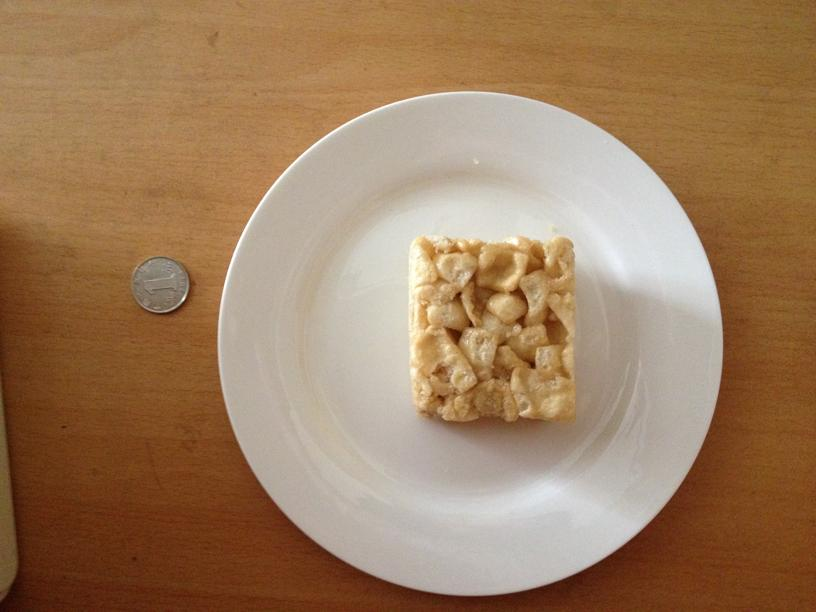coin: (132, 258, 188, 314)
sachima: (401, 232, 579, 423)
